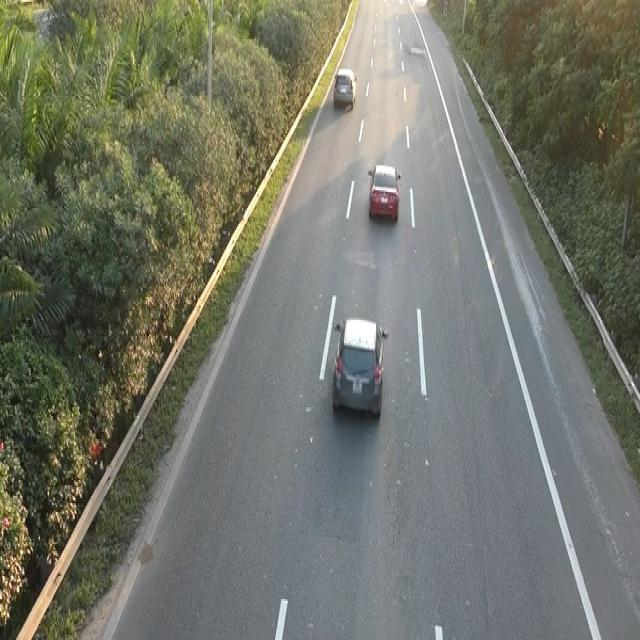bus: (330, 313, 388, 419), (367, 160, 401, 222), (332, 66, 357, 110)
